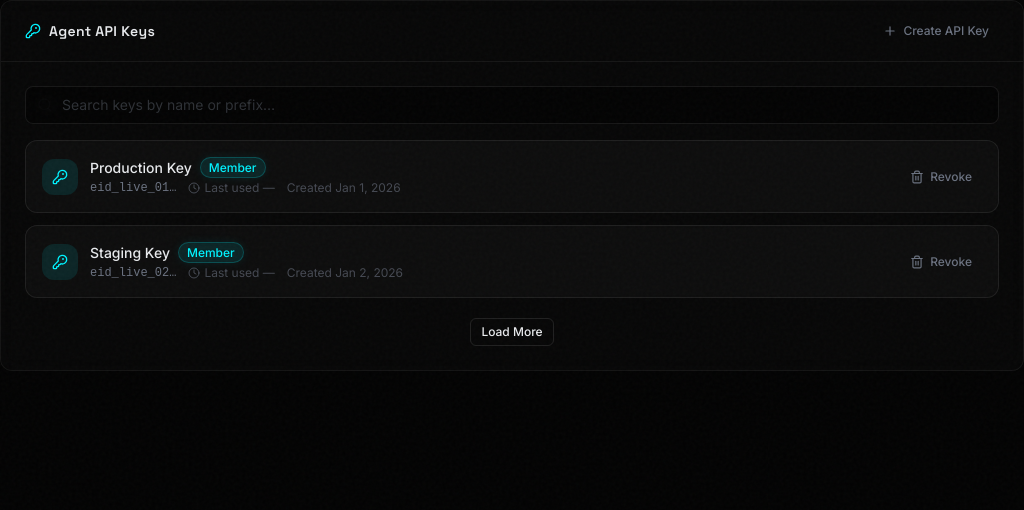
it: Agent API Keys Pagination UI › search resets pagination › resets pagination and fetches the first filtered page when search changes
The image size is (1024, 510).
Expected: the text "Production Key" is shown, [90,158,192,178]
# Load more to get page2Keys
Click the button "Load More" at (512, 332), box [470,318,554,346]
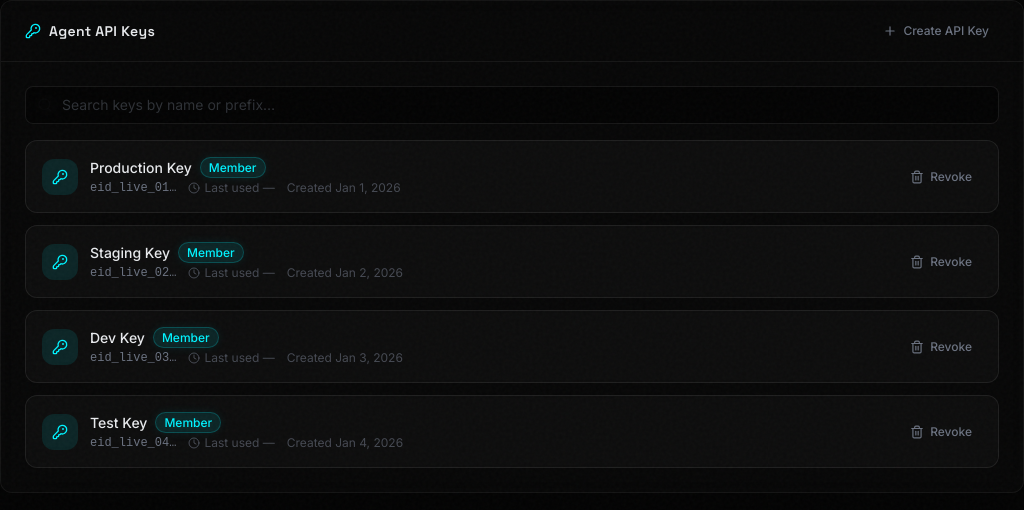
Result: the text "Dev Key" is shown at [90,328,145,348]
# Now search — should reset to first page of filtered results
Type "prod" into the field with placeholder "Search keys by name or prefix…" at (512, 105), box [25,86,999,124]
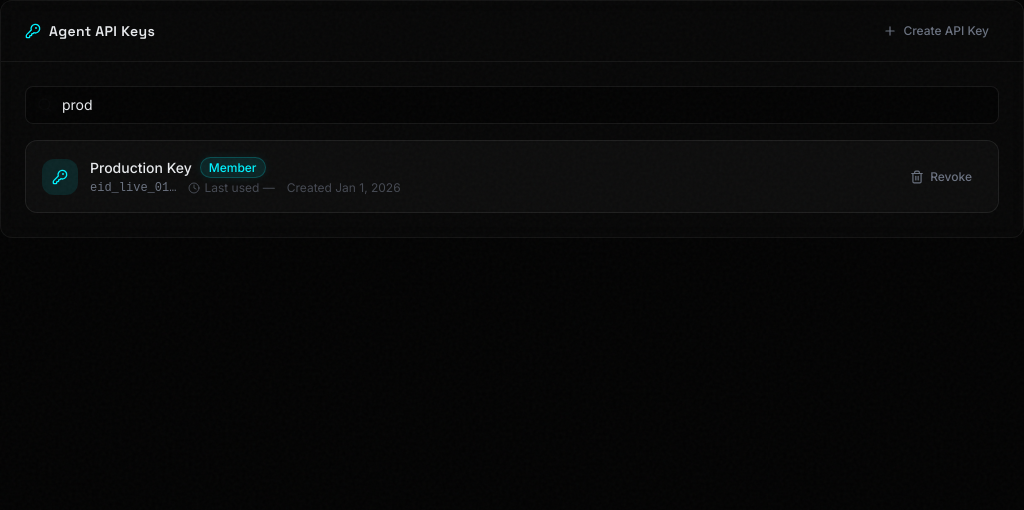
Expected: the text "Production Key" is shown, [90,158,192,178]
Result: the text "Dev Key" is gone
Result: the text "Test Key" is gone
